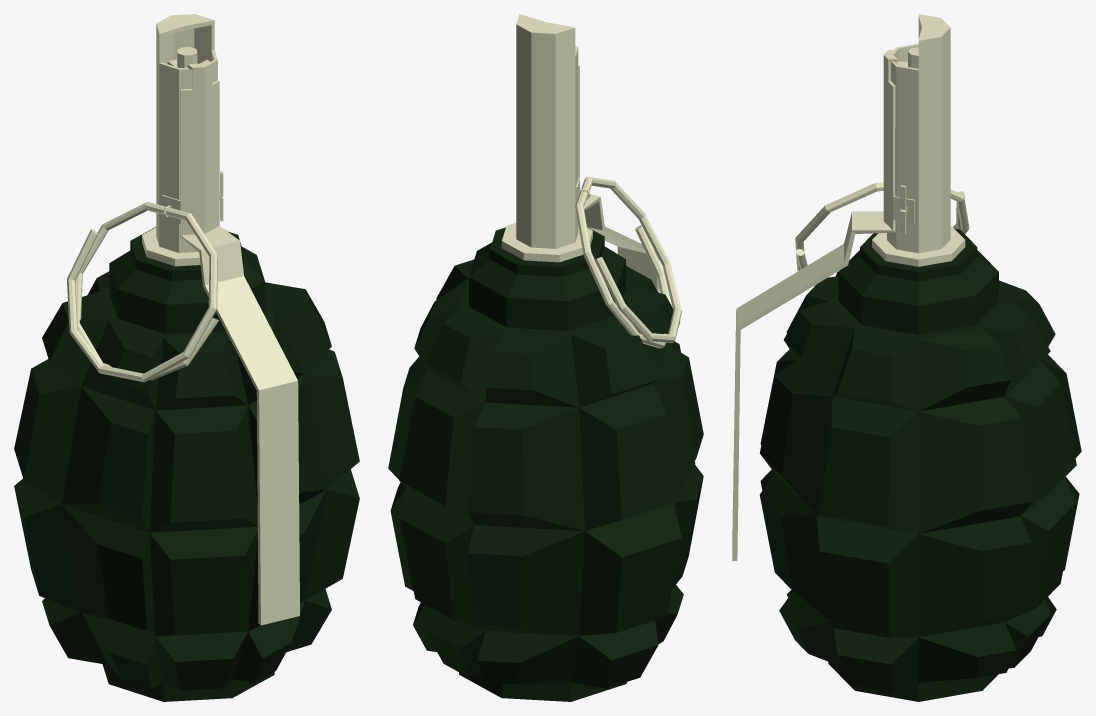
3 renders of one model, left to right at view 1: azimuth 30°, elevation 25°; view 2: azimuth 150°, elevation 25°; view 3: azimuth 270°, elevation 25°, orthographic.
Parts seen in each view (by area): view 1: f1; view 2: f1; view 3: f1.
Part boxes in pixels (bbox=[...]): f1: bbox=[14, 14, 359, 701]; f1: bbox=[388, 14, 703, 701]; f1: bbox=[732, 14, 1081, 701].
Size of the model in its own units: 0.0651 by 0.1339 by 0.0666.
